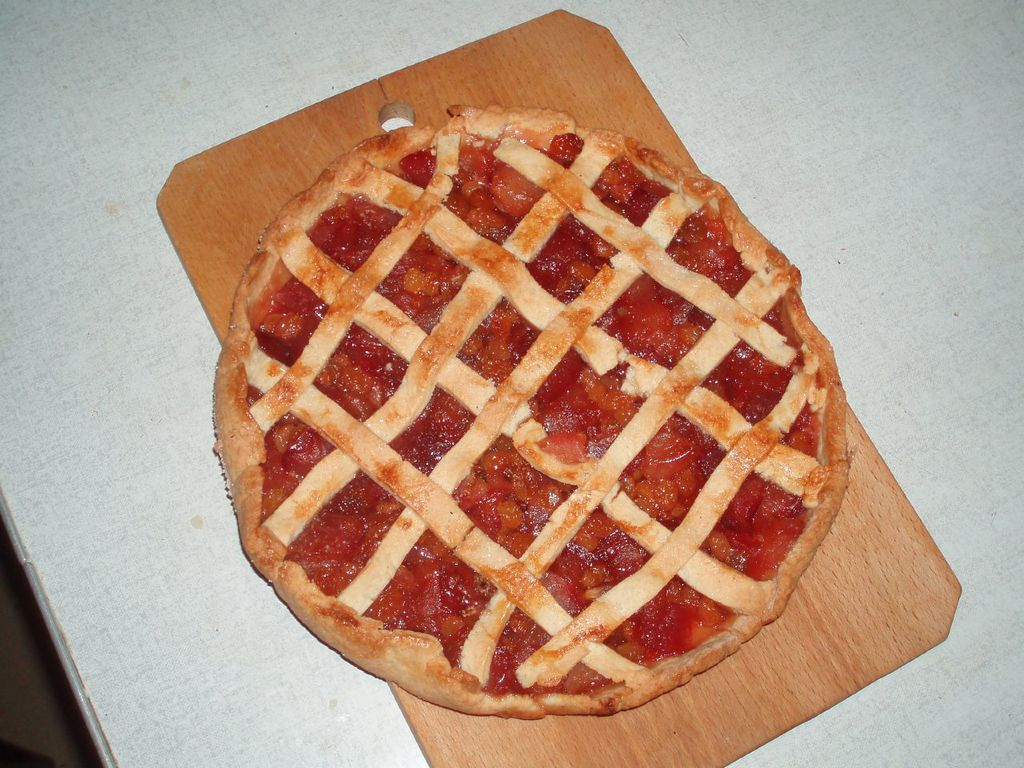Pizza: (198, 86, 855, 713)
